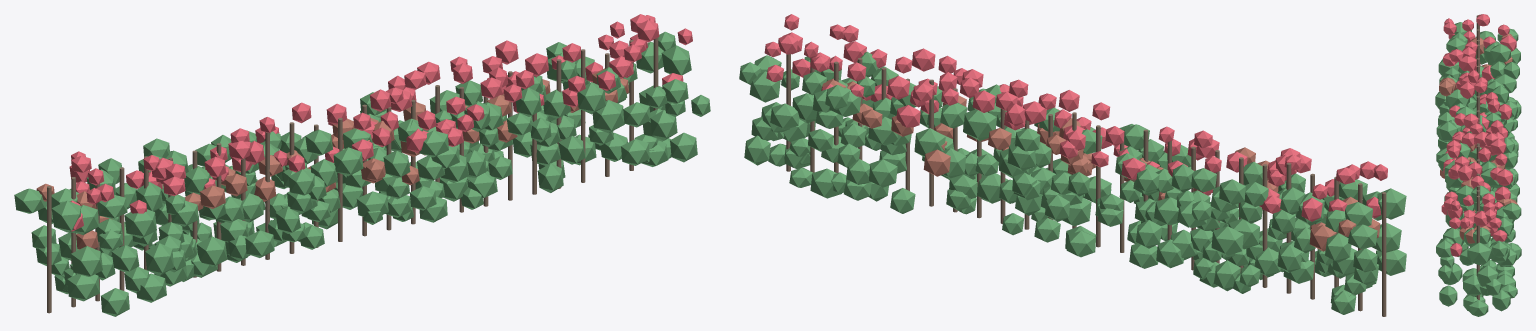
The picture shows the model from 3 angles, left to right: view 1: azimuth 30°, elevation 25°; view 2: azimuth 150°, elevation 25°; view 3: azimuth 270°, elevation 25°; orthographic projection. The views are drawn at different scales.
Visible parts, largest first — view 1: Icosphere.184, Icosphere.236, Icosphere.090, Icosphere.139, Icosphere.133, Icosphere.162, Icosphere.019, Icosphere.001, Icosphere.107, Icosphere.047, Icosphere.130, Icosphere.014 (+32 smaller); view 2: Icosphere.246, Icosphere.012, Icosphere.238, Icosphere.081, Icosphere.052, Cylinder, Icosphere.061, Icosphere.213, Icosphere.154, Icosphere.027, Icosphere.001, Icosphere.123 (+38 smaller); view 3: Icosphere.019, Icosphere.080, Icosphere.129, Icosphere.032, Icosphere.189, Icosphere.061, Icosphere.047, Icosphere.128, Icosphere.076, Icosphere.137, Icosphere.064, Icosphere.225 (+113 smaller).
Part boxes in pixels (box(x1,y1,x2,y2)): Icosphere.184: box(592, 100, 624, 133); Icosphere.236: box(71, 246, 102, 276); Icosphere.090: box(145, 243, 173, 275); Icosphere.139: box(124, 209, 156, 238); Icosphere.133: box(67, 274, 99, 301); Icosphere.162: box(197, 236, 227, 266); Icosphere.019: box(661, 45, 691, 75); Icosphere.001: box(51, 200, 80, 232); Icosphere.107: box(577, 82, 605, 114); Icosphere.047: box(333, 147, 363, 176); Icosphere.130: box(101, 288, 129, 316); Icosphere.014: box(245, 230, 274, 257); Icosphere.246: box(963, 109, 996, 140); Icosphere.012: box(1211, 226, 1243, 255); Icosphere.238: box(749, 71, 780, 102); Icosphere.081: box(869, 159, 897, 187); Icosphere.052: box(914, 128, 945, 157); Cylinder: box(1382, 192, 1386, 316); Icosphere.061: box(744, 135, 770, 165); Icosphere.213: box(770, 103, 799, 129); Icosphere.154: box(1066, 230, 1095, 256); Icosphere.027: box(810, 168, 841, 198); Icosphere.001: box(1377, 188, 1406, 219); Icosphere.123: box(977, 173, 1007, 203); Icosphere.019: box(1467, 242, 1491, 265); Icosphere.080: box(1477, 265, 1498, 286); Icosphere.129: box(1439, 285, 1457, 306); Icosphere.032: box(1490, 44, 1510, 62); Icosphere.189: box(1463, 274, 1481, 296); Icosphere.061: box(1492, 289, 1510, 311); Icosphere.047: box(1439, 121, 1457, 141); Icosphere.128: box(1446, 89, 1469, 106); Icosphere.076: box(1469, 300, 1488, 316); Icosphere.137: box(1502, 202, 1521, 220); Icosphere.064: box(1492, 74, 1516, 93); Icosphere.225: box(1436, 240, 1451, 257).
Bounding box in the file's own units: 10.35 × 2.3 × 1.67.
